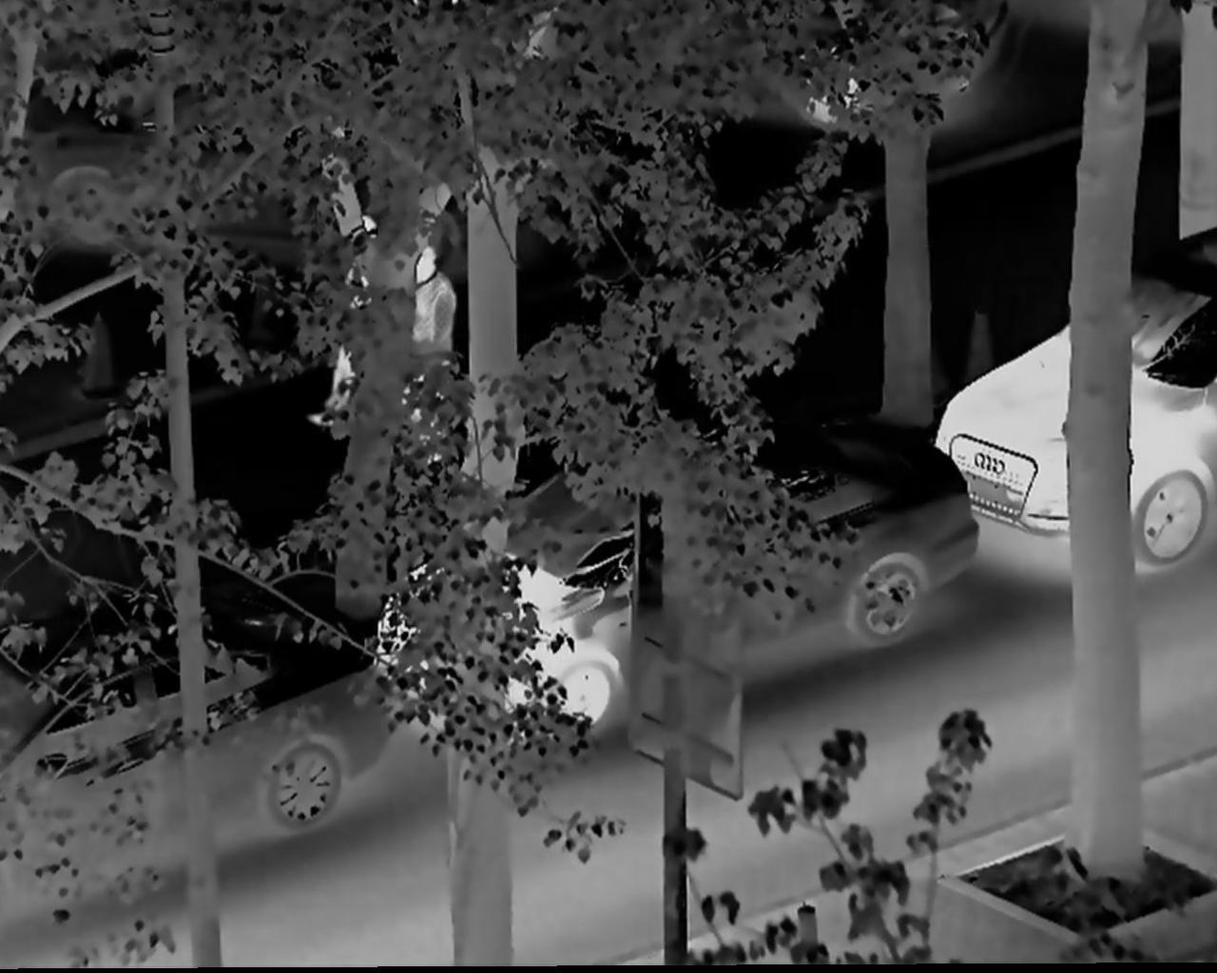person: (304, 215, 381, 428), (406, 244, 456, 467)
